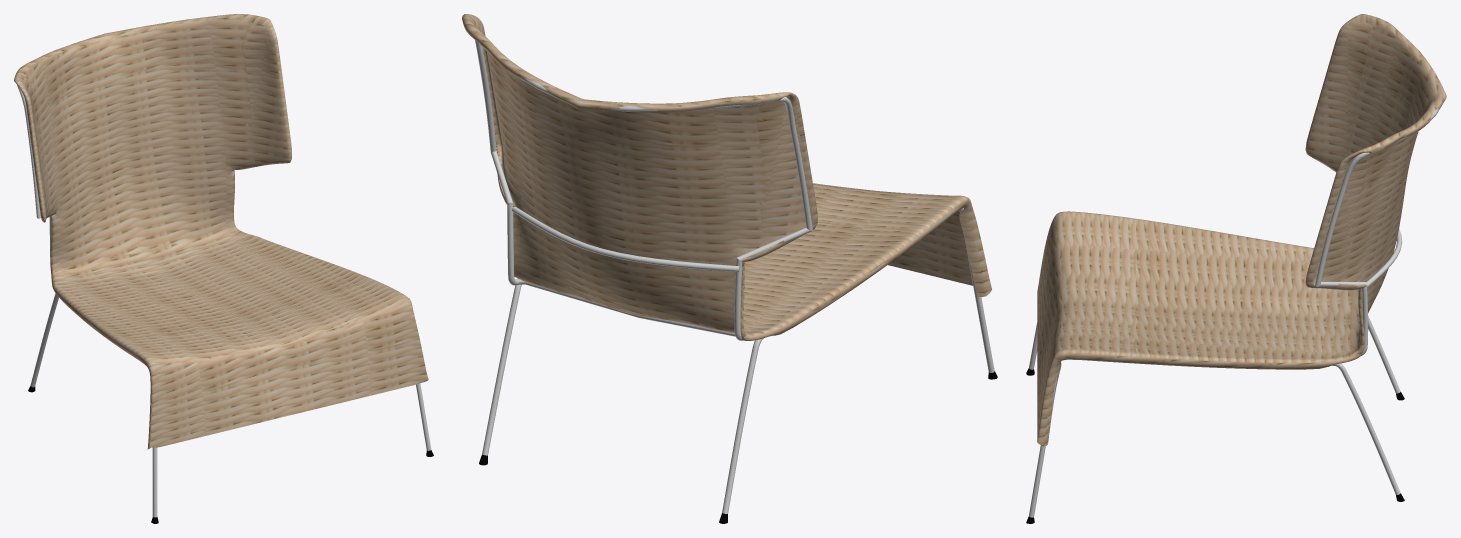
The model's file is IKEA-Vibbyn_Armchair-3D.DAE.
3 views of the same model, side by side, from view 1: azimuth 30°, elevation 25°; view 2: azimuth 150°, elevation 25°; view 3: azimuth 270°, elevation 25° (orthographic). The views are drawn at different scales.
Parts seen in each view (by area): view 1: Rectangle04, Line01; view 2: Rectangle04, Line01; view 3: Rectangle04, Line01.
Part boxes in pixels (left/top/right/bottom): Rectangle04: left=14, top=14, right=428, bottom=449; Line01: left=17, top=25, right=433, bottom=523; Rectangle04: left=462, top=14, right=991, bottom=340; Line01: left=475, top=40, right=997, bottom=523; Rectangle04: left=1037, top=14, right=1446, bottom=446; Line01: left=1026, top=70, right=1440, bottom=523.
Size of the model in its own units: 680 by 766 by 793.
